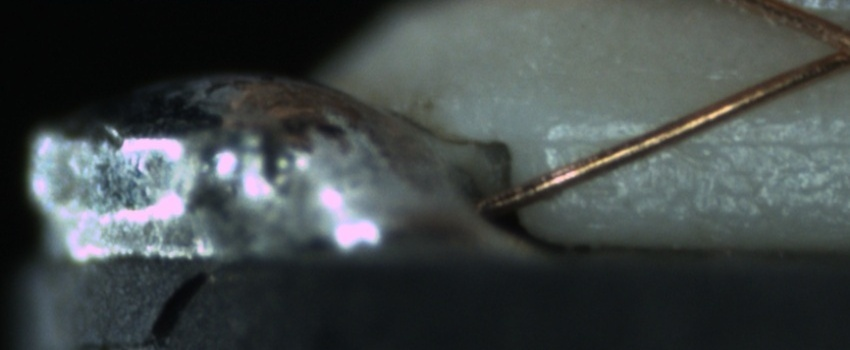CL: (801, 12, 850, 80)
DL: (542, 109, 844, 168)
